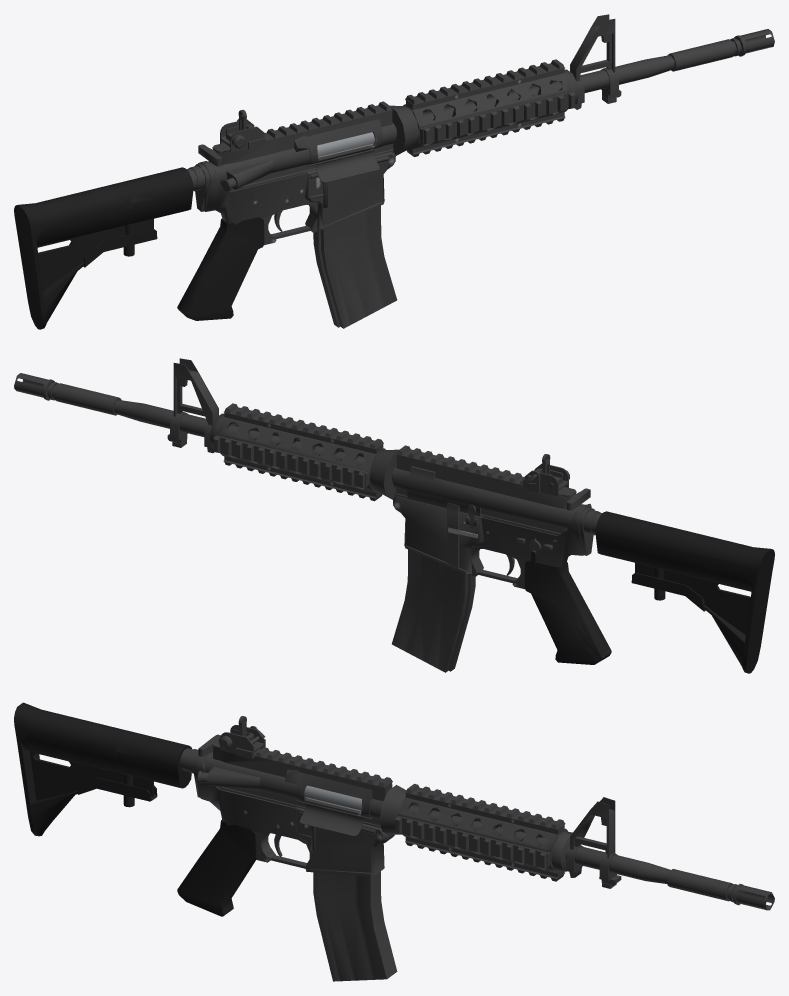
The picture shows the model from 3 angles, top to bottom: view 1: azimuth 30°, elevation 25°; view 2: azimuth 150°, elevation 25°; view 3: azimuth 330°, elevation 25°; orthographic projection.
Visible parts, largest first — view 1: m4a1_base, m4a1_barrel, m4a1_stock, m4a1_magazine, m4a1_ejector_lid, m4a1_sight, m4a1_ejector_2; view 2: m4a1_base, m4a1_barrel, m4a1_stock, m4a1_magazine, m4a1_sight; view 3: m4a1_base, m4a1_barrel, m4a1_stock, m4a1_magazine, m4a1_ejector_lid, m4a1_sight, m4a1_ejector_2.
Boxes of the visible parts, x1=… form: m4a1_base: x1=177, y1=101, x2=396, y2=320; m4a1_barrel: x1=390, y1=14, x2=774, y2=156; m4a1_stock: x1=14, y1=165, x2=205, y2=329; m4a1_magazine: x1=313, y1=205, x2=397, y2=328; m4a1_ejector_lid: x1=307, y1=147, x2=382, y2=182; m4a1_sight: x1=220, y1=119, x2=265, y2=152; m4a1_ejector_2: x1=317, y1=132, x2=374, y2=156; m4a1_base: x1=392, y1=445, x2=611, y2=664; m4a1_barrel: x1=14, y1=358, x2=398, y2=501; m4a1_stock: x1=583, y1=509, x2=774, y2=673; m4a1_magazine: x1=392, y1=529, x2=475, y2=672; m4a1_sight: x1=523, y1=463, x2=568, y2=496; m4a1_base: x1=177, y1=740, x2=394, y2=916; m4a1_barrel: x1=379, y1=783, x2=774, y2=910; m4a1_stock: x1=14, y1=702, x2=198, y2=836; m4a1_magazine: x1=313, y1=871, x2=397, y2=981; m4a1_ejector_lid: x1=296, y1=800, x2=371, y2=836; m4a1_sight: x1=220, y1=725, x2=265, y2=758; m4a1_ejector_2: x1=304, y1=785, x2=361, y2=810.
Bounding box in the file's own units: 0.8587 × 0.2659 × 0.0636.
1 material, 1 textured.
